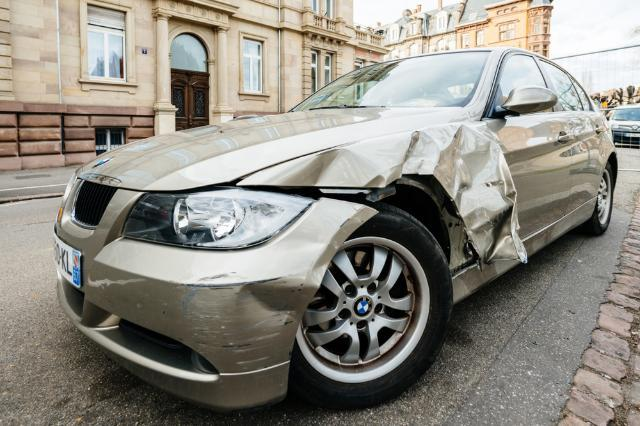dent: (279, 122, 523, 261), (232, 229, 338, 332)
dislocated part: (238, 183, 397, 212)
scratch: (180, 269, 286, 370), (84, 276, 150, 290), (340, 218, 350, 228)
